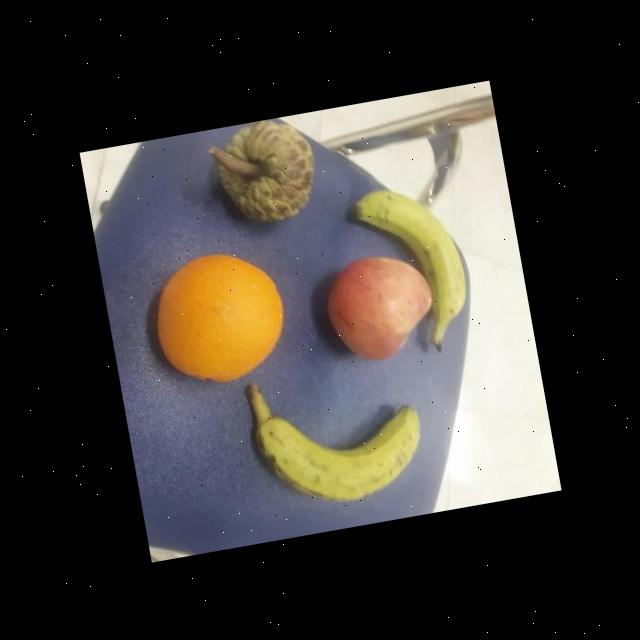Sakya fruit: (202, 110, 328, 231)
apple: (316, 242, 442, 366)
banana: (252, 395, 434, 518)
orange: (144, 242, 296, 393)
